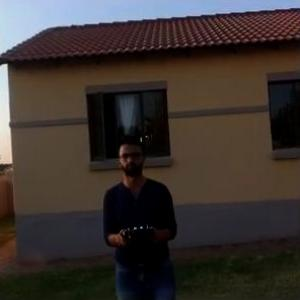follow: (100, 129, 183, 299)
